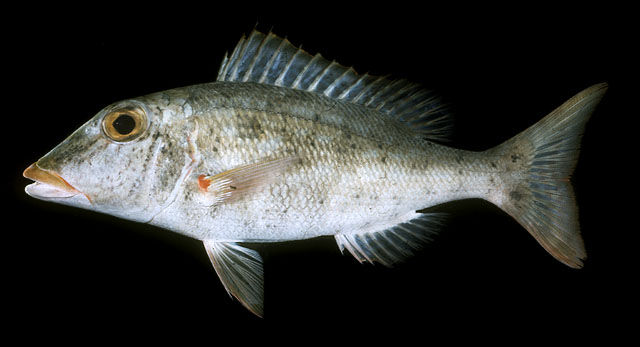fish: (21, 28, 609, 320)
